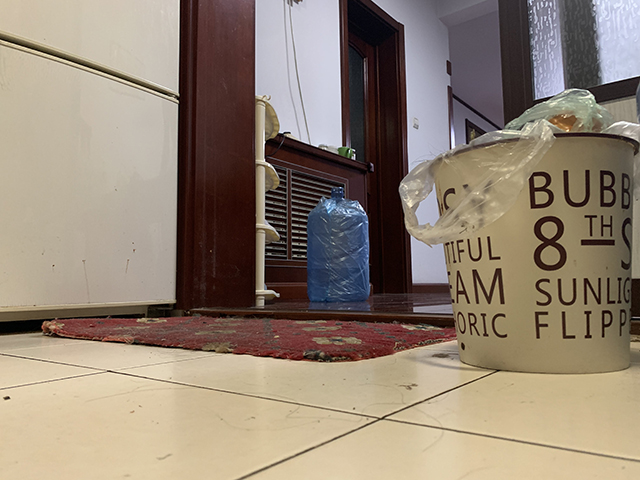cabinet: (264, 131, 378, 302)
carpet: (40, 313, 457, 364)
trashcan: (427, 131, 640, 375)
